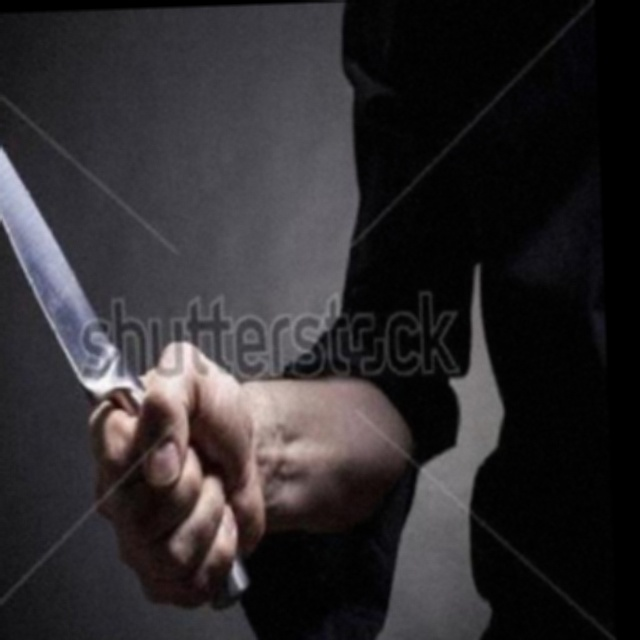Sharp-Object: (0, 95, 250, 616)
